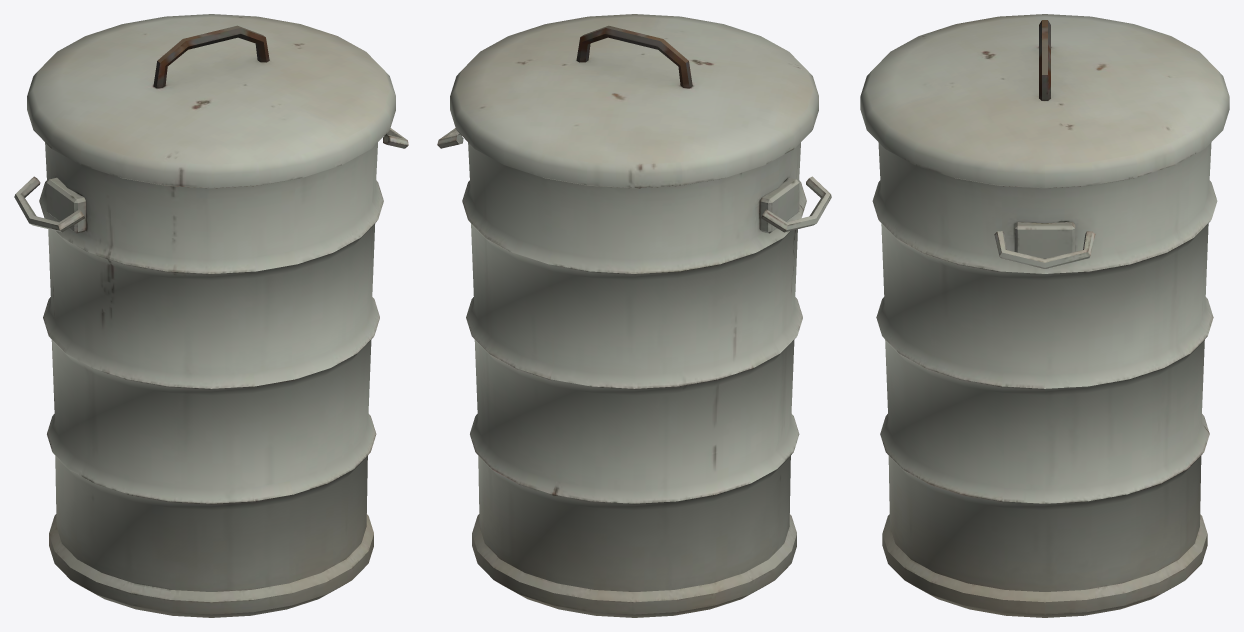
Rendered from trash_can.glb.
The picture shows the model from 3 angles, left to right: view 1: azimuth 30°, elevation 25°; view 2: azimuth 150°, elevation 25°; view 3: azimuth 270°, elevation 25°; orthographic projection.
Parts seen in each view (by area): view 1: trash_can; view 2: trash_can; view 3: trash_can.
Boxes of the visible parts, x1,y1,x2,y2 form: trash_can: (14, 14, 408, 617); trash_can: (437, 14, 831, 617); trash_can: (860, 14, 1229, 617).
Bounding box in the file's own units: 0.557 × 0.7597 × 0.488.
1 material, 1 textured.
